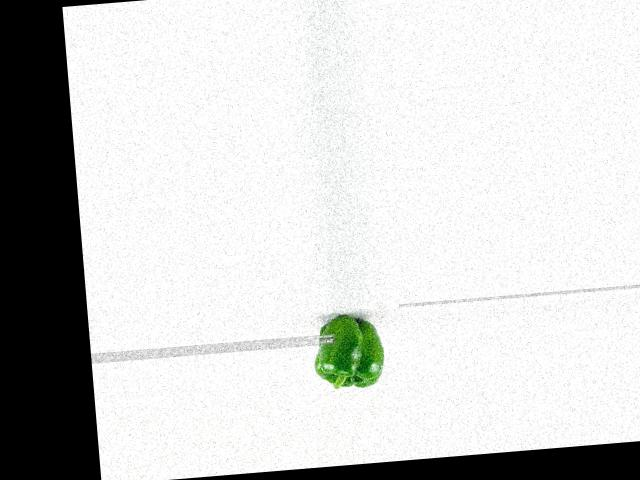bell_pepper: (311, 308, 389, 394)
